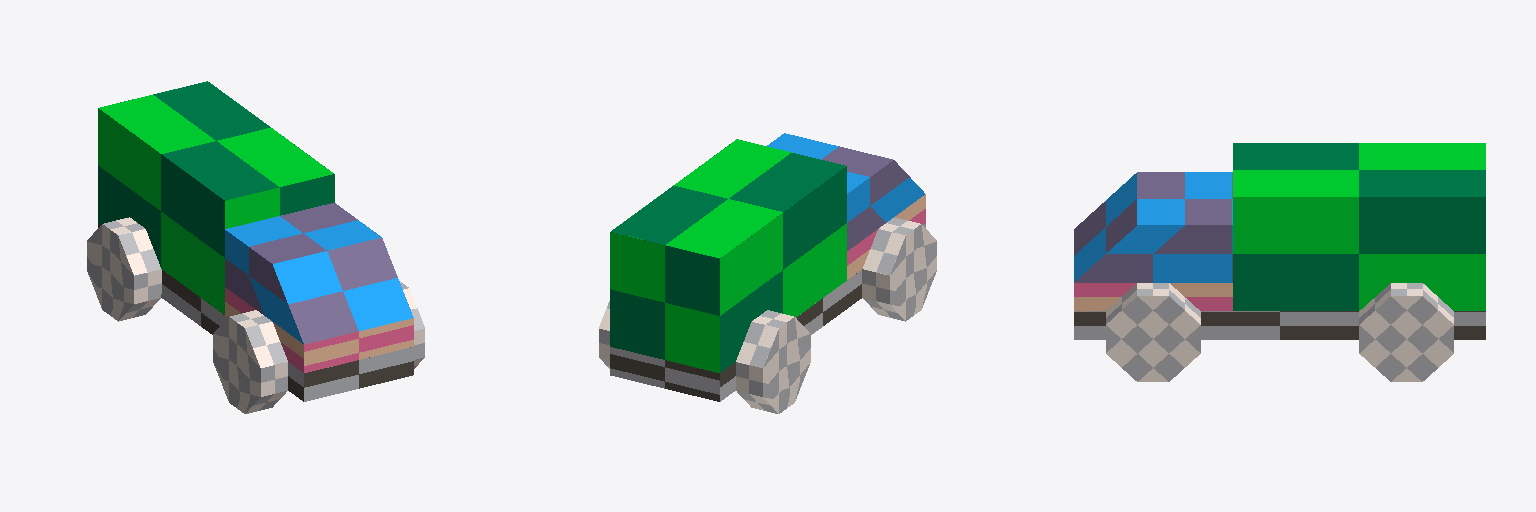
The picture shows the model from 3 angles: view 1: azimuth 30°, elevation 25°; view 2: azimuth 150°, elevation 25°; view 3: azimuth 270°, elevation 25°; orthographic projection.
Visible parts, largest first — view 1: truck_base_v2; view 2: truck_base_v2; view 3: truck_base_v2.
Boxes of the visible parts, box(x1,y1,x2,y2) form: truck_base_v2: box(87, 81, 424, 413); truck_base_v2: box(599, 133, 936, 413); truck_base_v2: box(1074, 143, 1485, 381).
Bounding box in the file's own units: 1.5 × 1.5 × 3.25.
Materials: 1 (1 with a texture image).